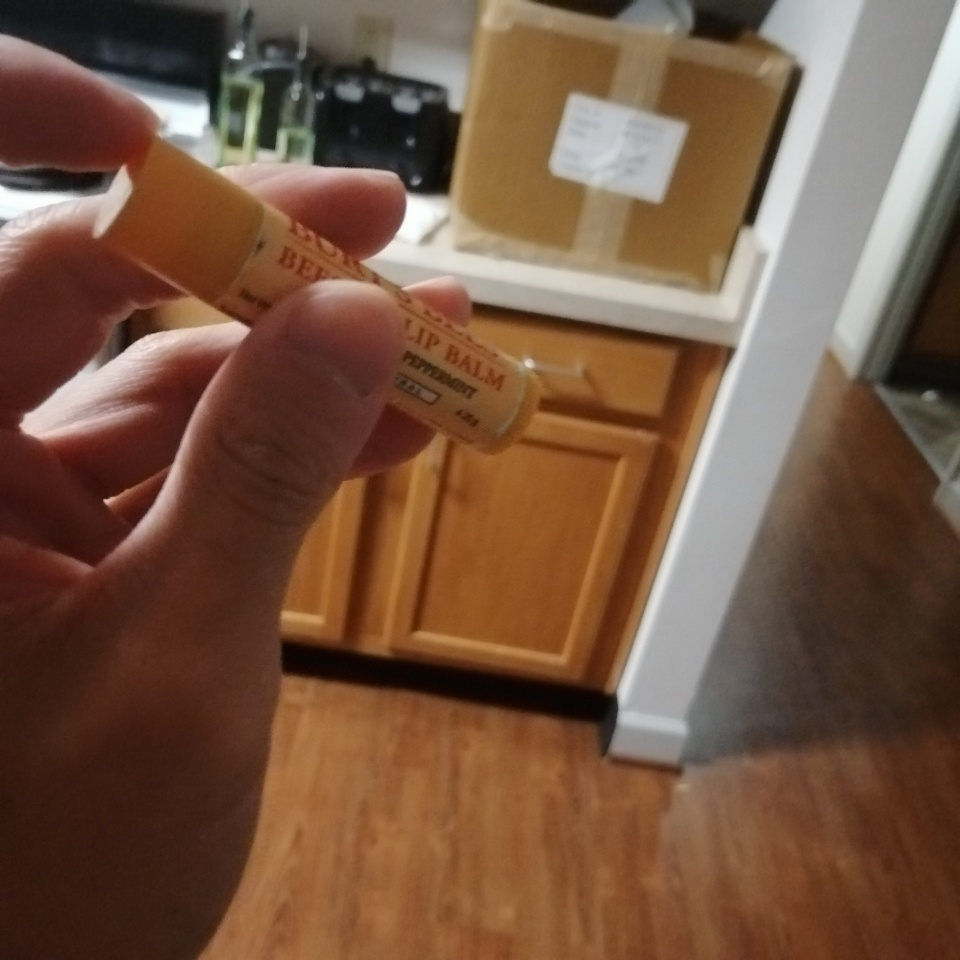chapstick: (90, 134, 545, 456)
